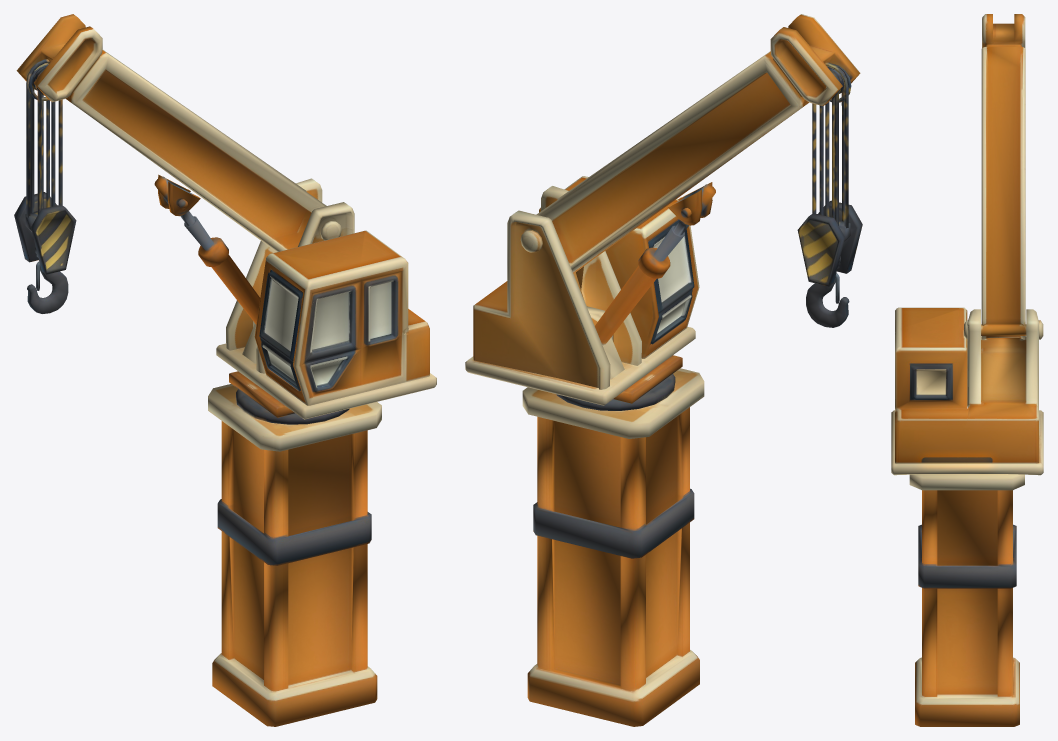
File: cs_deck_crane.glb
3 renders of one model, left to right at view 1: azimuth 30°, elevation 25°; view 2: azimuth 150°, elevation 25°; view 3: azimuth 270°, elevation 25°, orthographic. The views are drawn at different scales.
Parts seen in each view (by area): view 1: cs_deck_crane; view 2: cs_deck_crane; view 3: cs_deck_crane.
Boxes of the visible parts, box(x1,y1,x2,y2) form: cs_deck_crane: box(14, 14, 436, 726); cs_deck_crane: box(465, 14, 862, 726); cs_deck_crane: box(891, 14, 1043, 726).
Size of the model in its own units: 0.519 by 0.9995 by 0.228.
Materials: 1 (1 with a texture image).
